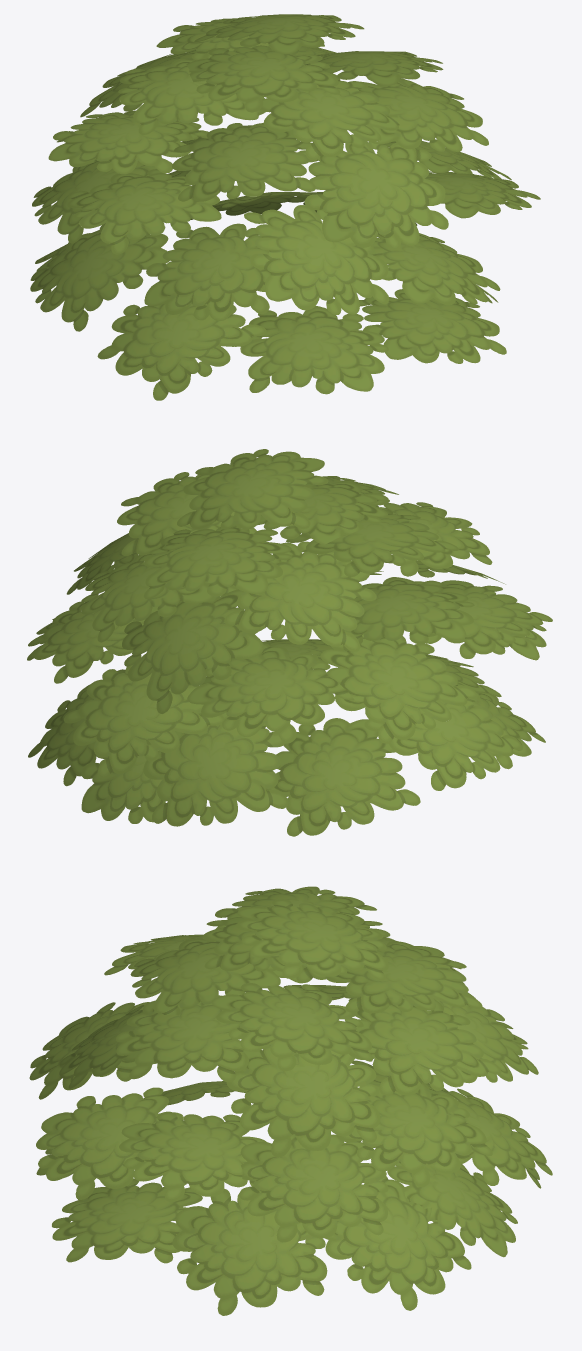
Rendered from Tree.fbx.
3 renders of one model, top to bottom at view 1: azimuth 30°, elevation 25°; view 2: azimuth 150°, elevation 25°; view 3: azimuth 270°, elevation 25°, orthographic. The views are drawn at different scales.
Parts seen in each view (by area): view 1: Tree_Leaves 17, Tree_Leaves 24, Tree_Leaves 28, Tree_Leaves 27, Tree_Leaves 25, Tree_Leaves 2, Tree_Leaves 19, Tree_Leaves 26, Tree_Leaves 32, Tree_Leaves 7, Tree_Leaves, Tree_Leaves 29 (+11 smaller); view 2: Tree_Leaves 22, Tree_Leaves 16, Tree_Leaves 18, Tree_Leaves 9, Tree_Leaves 4, Tree_Leaves 12, Tree_Leaves 13, Tree_Leaves 30, Tree_Leaves 6, Tree_Leaves 26, Tree_Leaves 29, Tree_Leaves 5 (+14 smaller); view 3: Tree_Leaves 21, Tree_Leaves 14, Tree_Leaves 10, Tree_Leaves 20, Tree_Leaves 8, Tree_Leaves 3, Tree_Leaves 15, Tree_Leaves 30, Tree_Leaves 23, Tree_Leaves 11, Tree_Leaves 32, Tree_Leaves 1 (+11 smaller).
Part boxes in pixels (left/top/right/bottom): Tree_Leaves 17: left=298, top=139, right=448, bottom=248; Tree_Leaves 24: left=244, top=205, right=388, bottom=314; Tree_Leaves 28: left=240, top=306, right=388, bottom=394; Tree_Leaves 27: left=97, top=303, right=266, bottom=400; Tree_Leaves 25: left=144, top=223, right=271, bottom=320; Tree_Leaves 2: left=172, top=123, right=315, bottom=201; Tree_Leaves 19: left=67, top=169, right=221, bottom=254; Tree_Leaves 26: left=30, top=223, right=169, bottom=331; Tree_Leaves 32: left=359, top=289, right=506, bottom=363; Tree_Leaves 7: left=257, top=70, right=399, bottom=160; Tree_Leaves: left=186, top=45, right=340, bottom=112; Tree_Leaves 29: left=48, top=112, right=207, bottom=174; Tree_Leaves 22: left=266, top=718, right=420, bottom=836; Tree_Leaves 16: left=143, top=712, right=288, bottom=826; Tree_Leaves 18: left=320, top=634, right=477, bottom=743; Tree_Leaves 9: left=122, top=589, right=263, bottom=713; Tree_Leaves 4: left=224, top=541, right=376, bottom=651; Tree_Leaves 12: left=187, top=643, right=354, bottom=743; Tree_Leaves 13: left=64, top=664, right=224, bottom=778; Tree_Leaves 30: left=177, top=449, right=328, bottom=529; Tree_Leaves 6: left=143, top=526, right=292, bottom=598; Tree_Leaves 26: left=364, top=693, right=522, bottom=790; Tree_Leaves 29: left=342, top=577, right=474, bottom=650; Tree_Leaves 5: left=286, top=509, right=458, bottom=576; Tree_Leaves 21: left=172, top=1188, right=327, bottom=1315; Tree_Leaves 14: left=239, top=1134, right=388, bottom=1242; Tree_Leaves 10: left=226, top=1045, right=380, bottom=1157; Tree_Leaves 20: left=325, top=1176, right=471, bottom=1310; Tree_Leaves 8: left=211, top=983, right=373, bottom=1071; Tree_Leaves 3: left=349, top=995, right=501, bottom=1095; Tree_Leaves 15: left=119, top=1111, right=266, bottom=1202; Tree_Leaves 30: left=235, top=899, right=388, bottom=980; Tree_Leaves 23: left=36, top=1087, right=183, bottom=1199; Tree_Leaves 11: left=336, top=1082, right=492, bottom=1187; Tree_Leaves 32: left=52, top=1178, right=202, bottom=1263; Tree_Leaves 1: left=116, top=995, right=249, bottom=1082.
Size of the model in its own units: 3.56 by 2.25 by 3.53.
